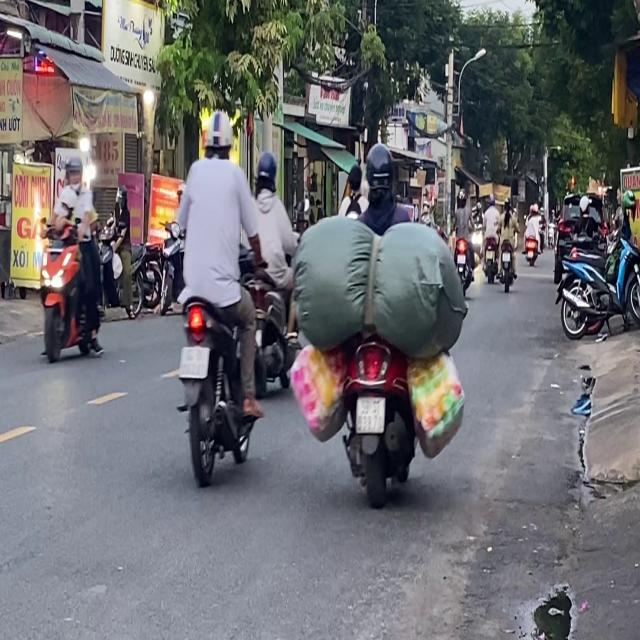helmet: (363, 141, 395, 203), (204, 108, 234, 159), (254, 149, 277, 194), (64, 150, 83, 187)
licenseplate: (287, 136, 469, 509), (170, 106, 262, 486), (36, 149, 104, 364), (248, 148, 299, 397)
nohelmet: (356, 397, 384, 432), (179, 345, 209, 377)
